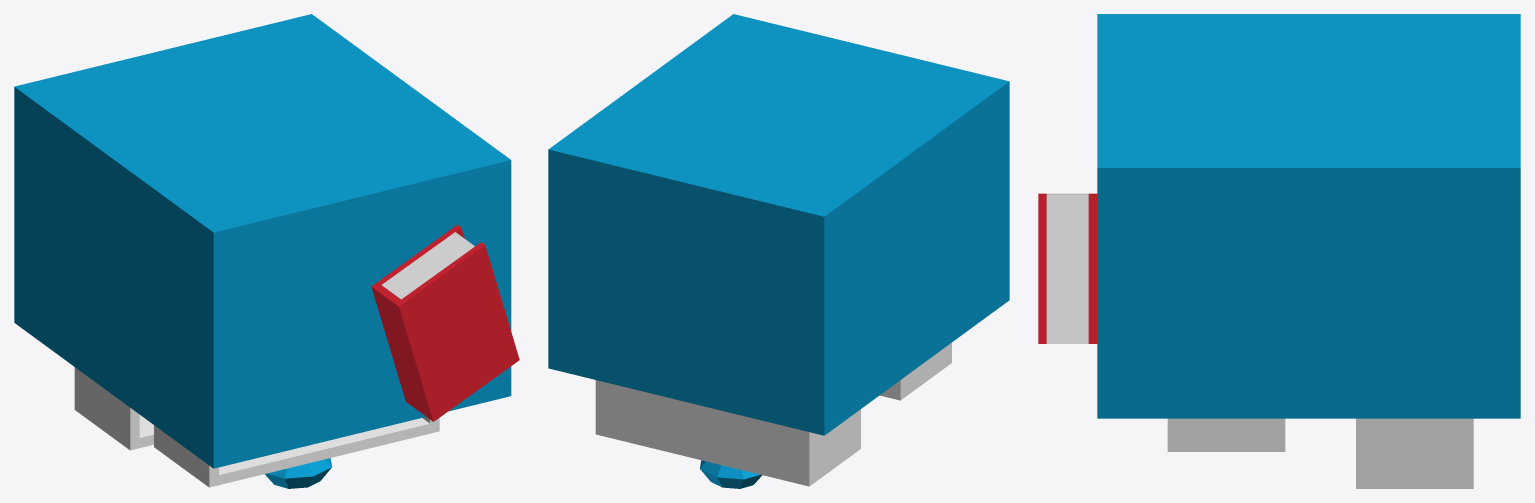
File: tinker.obj
3 views of the same model, side by side, from view 1: azimuth 30°, elevation 25°; view 2: azimuth 150°, elevation 25°; view 3: azimuth 270°, elevation 25° (orthographic). The views are drawn at different scales.
Parts seen in each view (by area): view 1: group_0_40919, group_0_15277357, group_0_16448250; view 2: group_0_40919, group_0_16448250; view 3: group_0_40919, group_0_16448250, group_0_15277357.
Boxes of the visible parts, x1,y1,x2,y2 form: group_0_40919: [14, 14, 511, 488]; group_0_15277357: [371, 224, 519, 421]; group_0_16448250: [74, 232, 474, 487]; group_0_40919: [548, 14, 1009, 488]; group_0_16448250: [595, 343, 951, 486]; group_0_40919: [1097, 14, 1520, 418]; group_0_16448250: [1046, 193, 1473, 488]; group_0_15277357: [1038, 193, 1097, 343].
Bounding box in the file's own units: 31 × 35.5 × 41.
